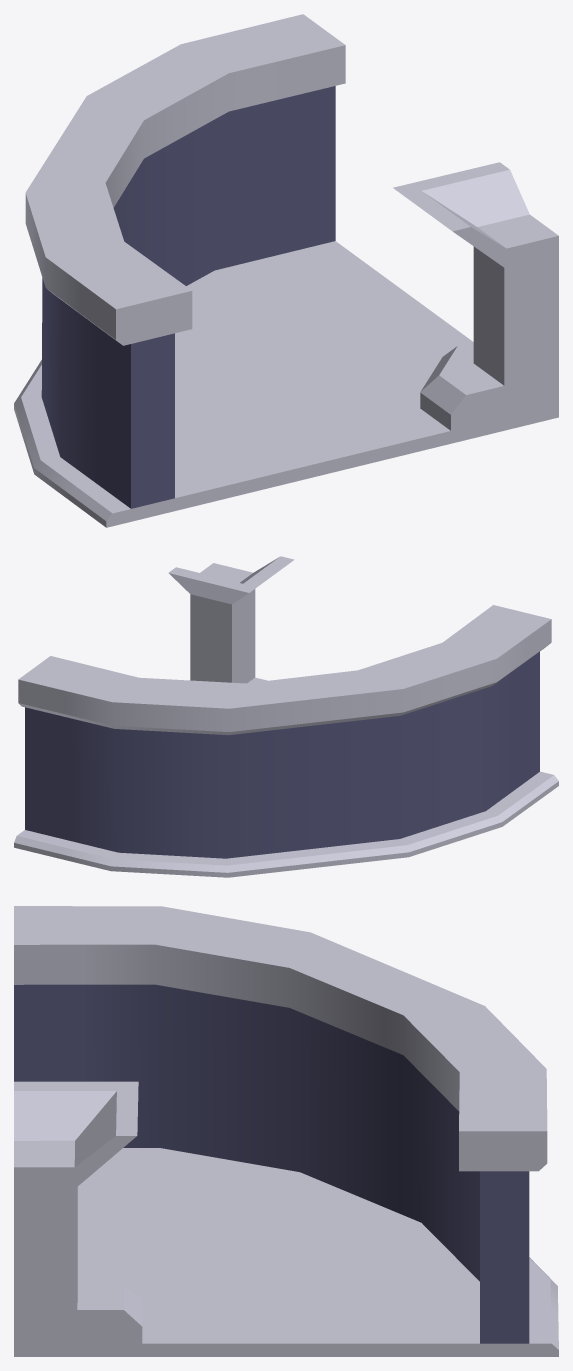
Rendered from Fountain.fbx.
The picture shows the model from 3 angles, top to bottom: view 1: azimuth 30°, elevation 25°; view 2: azimuth 150°, elevation 25°; view 3: azimuth 270°, elevation 25°; orthographic projection. The views are drawn at different scales.
Visible parts, largest first — view 1: pCube208; view 2: pCube208; view 3: pCube208.
Part boxes in pixels (x1=…): pCube208: x1=14, y1=14, x2=558, y2=527; pCube208: x1=14, y1=556, x2=558, y2=877; pCube208: x1=14, y1=906, x2=558, y2=1356.
Bounding box in the file's own units: 2.12 × 0.9674 × 2.12.
